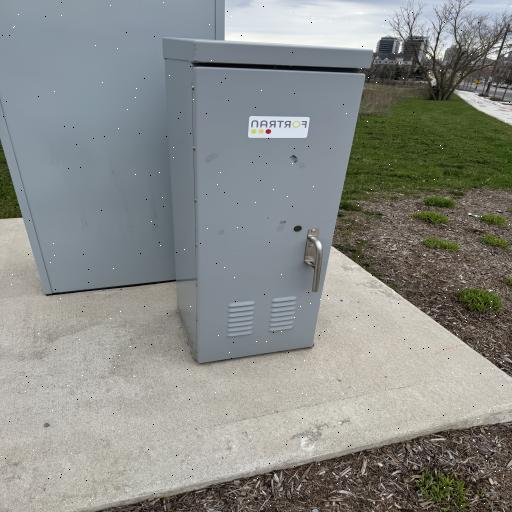Electrical Box: (162, 37, 375, 361), (0, 2, 227, 295)
